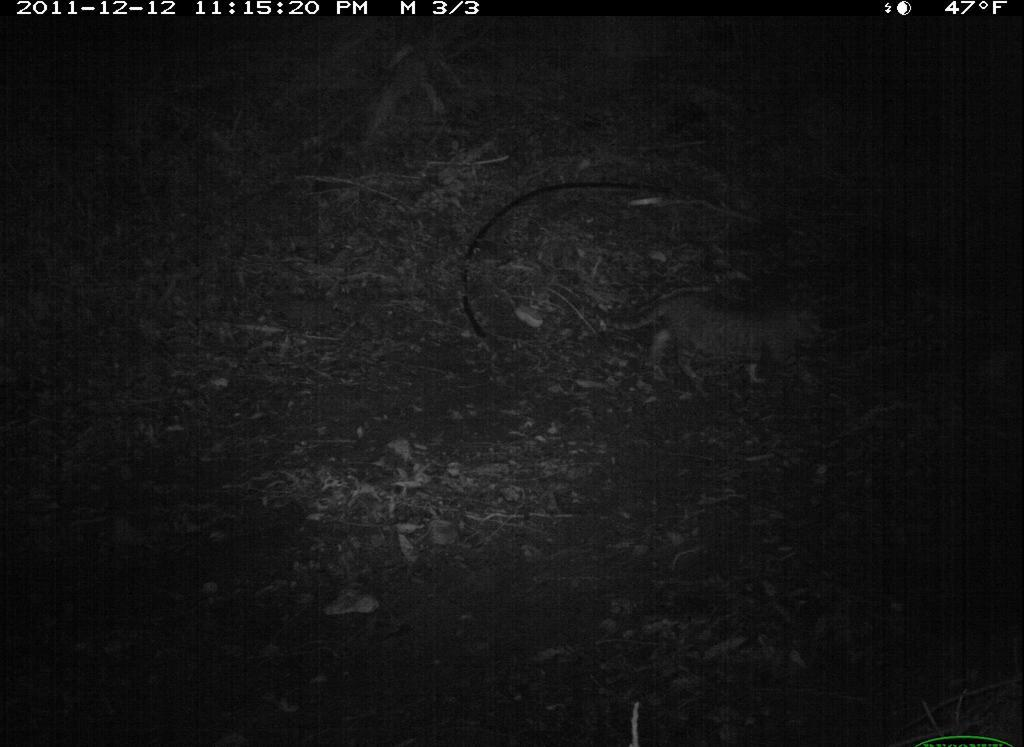cat: (606, 264, 838, 401)
